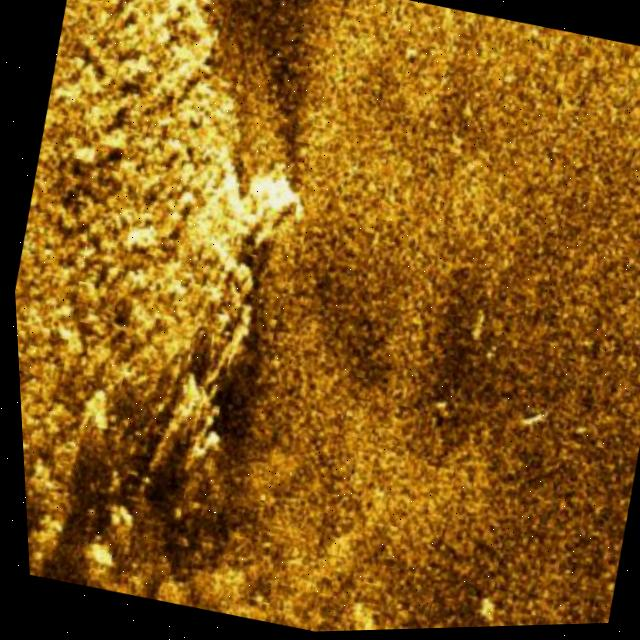bedrock group: (0, 0, 370, 619)
